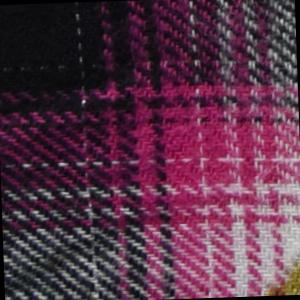Damage: (262, 252, 300, 297)
Wrinkle: (3, 206, 145, 300)
